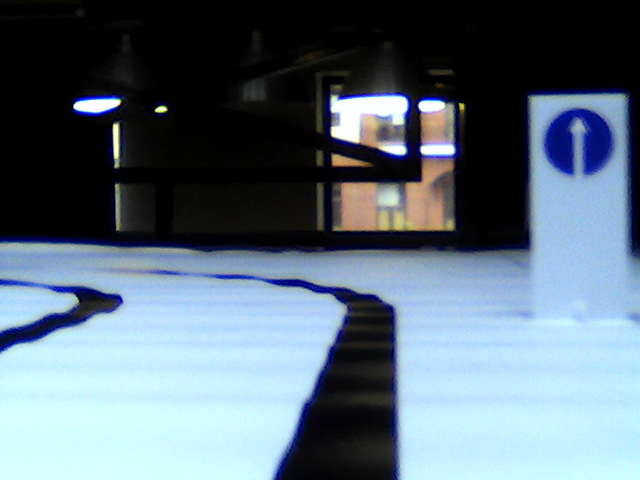forw: (543, 110, 615, 176)
